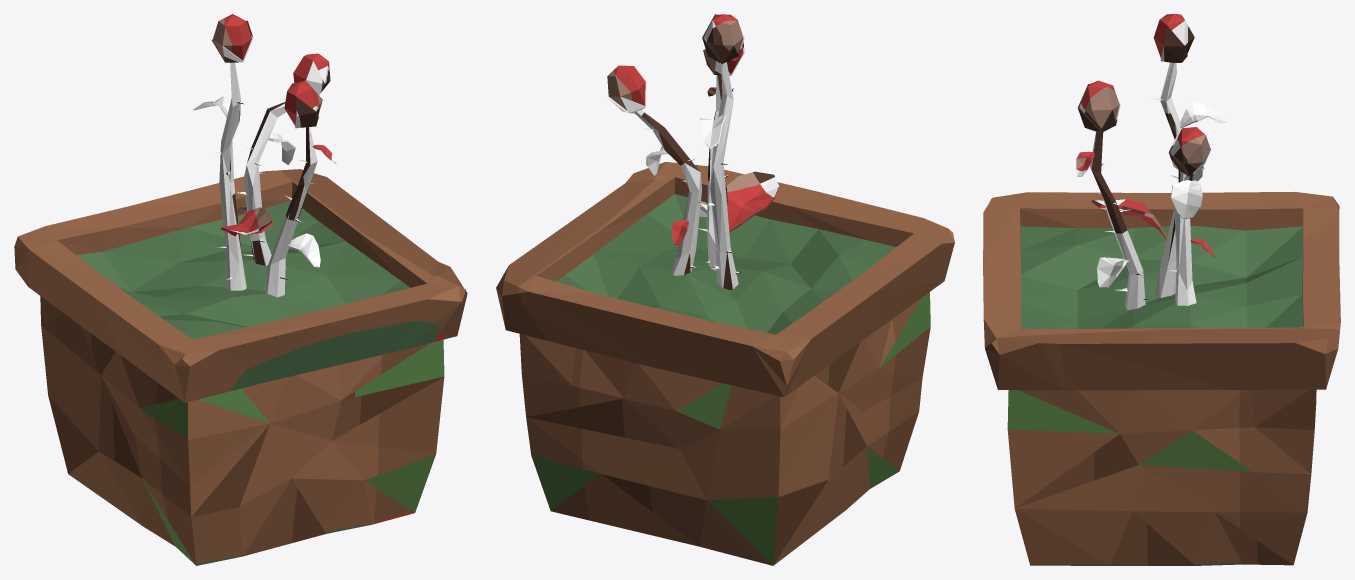
File: Roses3 1.fbx
The picture shows the model from 3 angles, left to right: view 1: azimuth 30°, elevation 25°; view 2: azimuth 150°, elevation 25°; view 3: azimuth 270°, elevation 25°; orthographic projection. The views are drawn at different scales.
Visible parts, largest first — view 1: Roses3, Roses3.001, Cylinder.003, Cylinder.015; view 2: Roses3, Roses3.001, Cylinder.003, Cylinder.002; view 3: Roses3, Roses3.001, Cylinder.003, Cylinder.016, Cylinder.015, Cylinder.002.
Part boxes in pixels (x1,y1,x2,y2): Roses3: [14, 169, 467, 565]; Roses3.001: [76, 200, 410, 339]; Cylinder.003: [211, 14, 336, 297]; Cylinder.015: [287, 233, 320, 267]; Roses3: [496, 162, 954, 565]; Roses3.001: [556, 194, 896, 334]; Cylinder.003: [607, 14, 779, 289]; Cylinder.002: [699, 114, 725, 148]; Roses3: [983, 192, 1340, 565]; Roses3.001: [1020, 225, 1303, 329]; Cylinder.003: [1076, 14, 1215, 310]; Cylinder.016: [1171, 180, 1202, 219]; Cylinder.015: [1097, 257, 1129, 288]; Cylinder.002: [1180, 102, 1227, 127].
Size of the model in its own units: 24.34 by 37.03 by 24.31.
2 materials, 2 textured.
